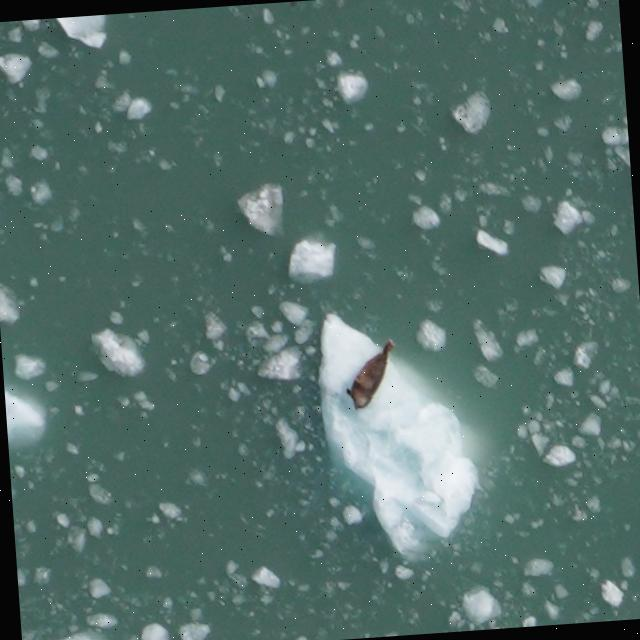seal: (337, 333, 405, 415)
